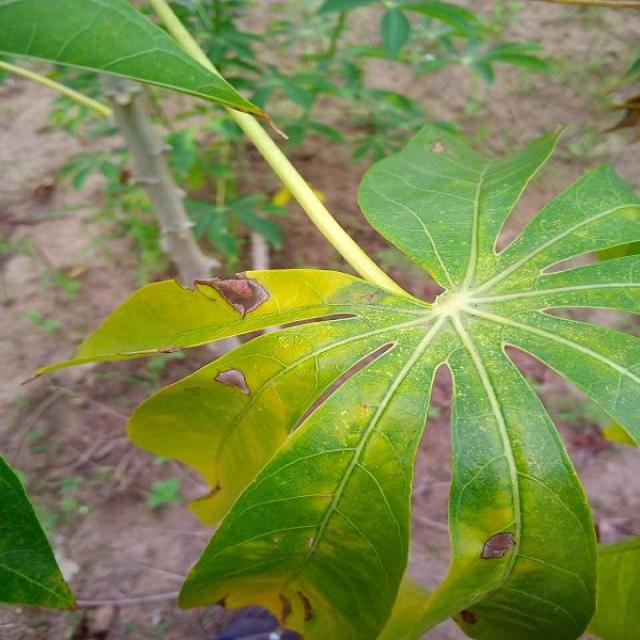cassava leaf: (26, 116, 638, 638), (0, 0, 286, 137)
